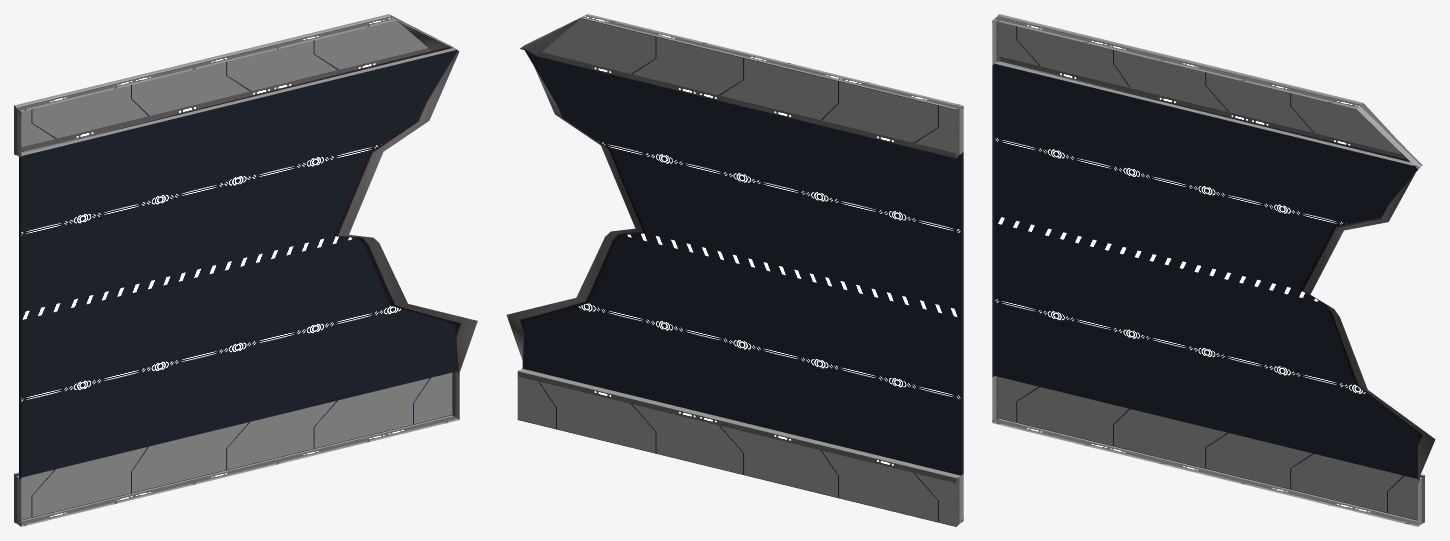
Rendered from SM_L_BRoad2 1.fbx.
3 renders of one model, left to right at view 1: azimuth 30°, elevation 25°; view 2: azimuth 150°, elevation 25°; view 3: azimuth 330°, elevation 25°, orthographic. The views are drawn at different scales.
Visible parts, largest first — view 1: SM_L_BRoad2; view 2: SM_L_BRoad2; view 3: SM_L_BRoad2.
Part boxes in pixels (bbox=[...]): SM_L_BRoad2: bbox=[14, 14, 477, 526]; SM_L_BRoad2: bbox=[506, 14, 963, 526]; SM_L_BRoad2: bbox=[992, 14, 1435, 526].
Size of the model in its own units: 5644 by 4923 by 155.
